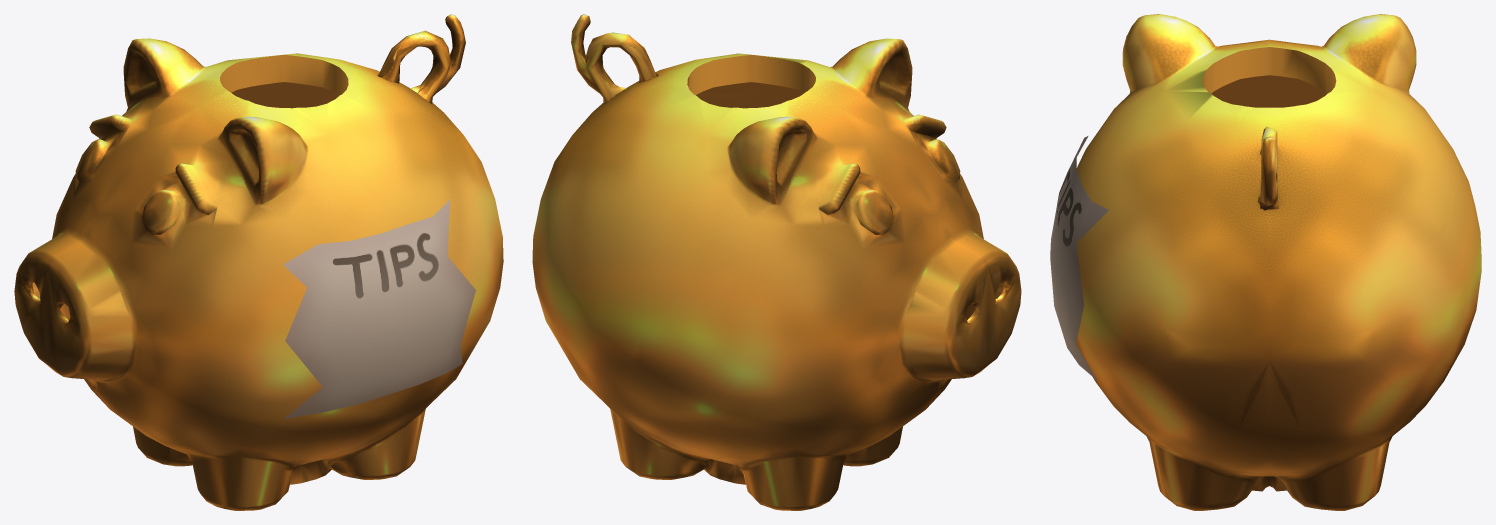
Rendered from TIPSs_6.fbx.
The picture shows the model from 3 angles, left to right: view 1: azimuth 30°, elevation 25°; view 2: azimuth 150°, elevation 25°; view 3: azimuth 270°, elevation 25°; orthographic projection. The views are drawn at different scales.
Visible parts, largest first — view 1: Piggy Bank.001, Cylinder.001; view 2: Piggy Bank.001; view 3: Piggy Bank.001, Cylinder.001.
Boxes of the visible parts, bbox=[...] form: Piggy Bank.001: bbox=[14, 14, 503, 510]; Cylinder.001: bbox=[283, 199, 475, 419]; Piggy Bank.001: bbox=[532, 14, 1021, 510]; Piggy Bank.001: bbox=[1076, 14, 1481, 510]; Cylinder.001: bbox=[1050, 136, 1108, 380].
Bounding box in the file's own units: 4.71 × 4.19 × 3.94.
